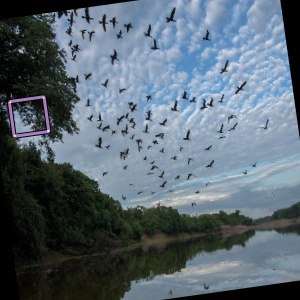square: (6, 93, 53, 140)
